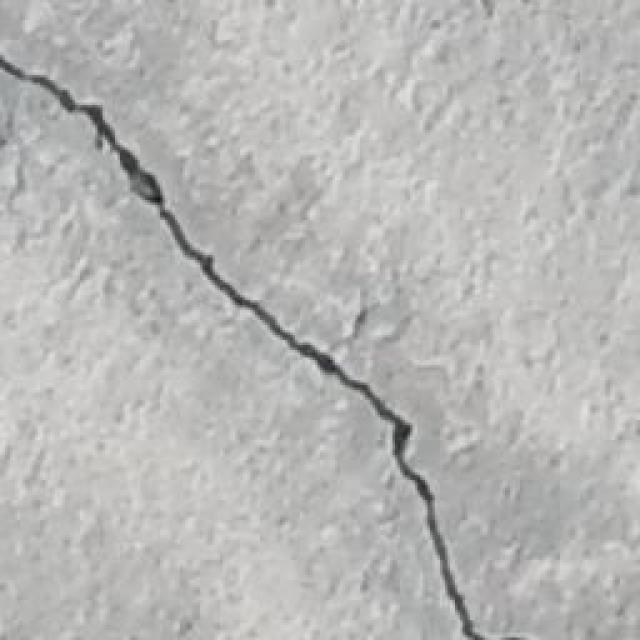concrete-crack: (0, 45, 482, 640)
